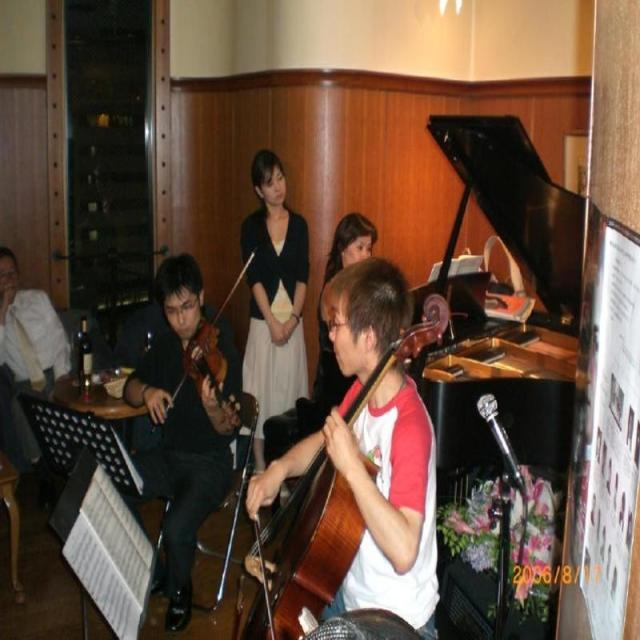cello: (233, 291, 452, 640)
violin: (178, 316, 244, 423)
